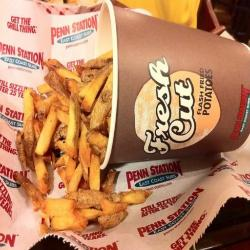fries: (20, 60, 147, 236)
